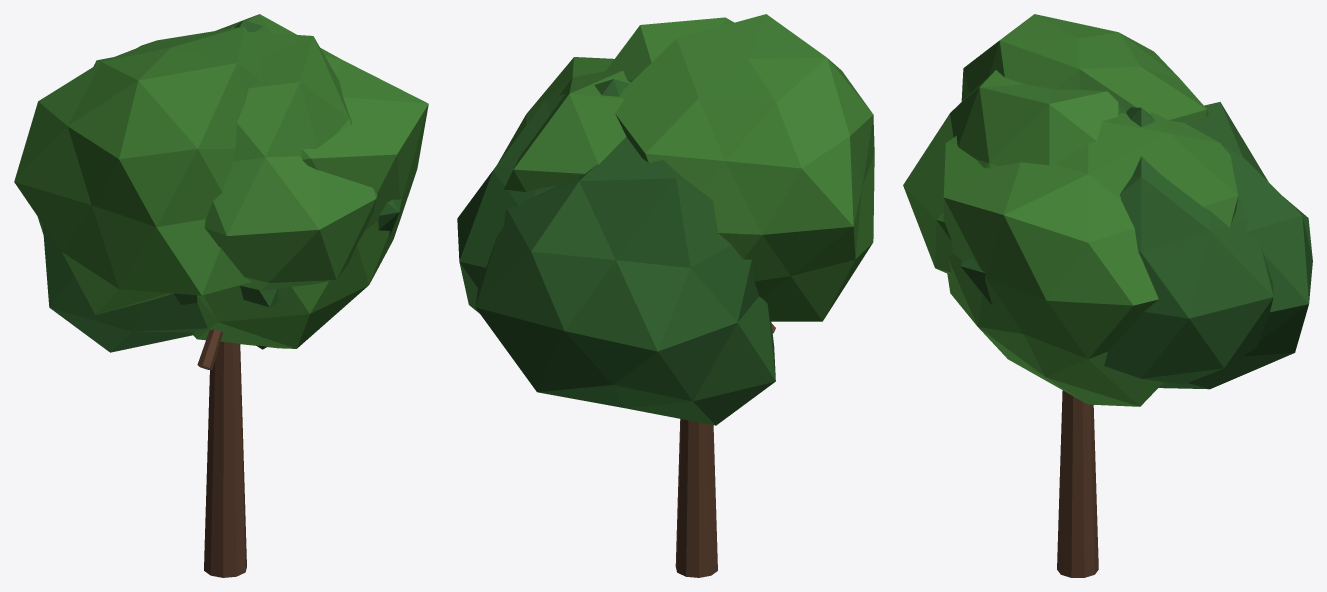
The model's file is tree.glb.
The picture shows the model from 3 angles, left to right: view 1: azimuth 30°, elevation 25°; view 2: azimuth 150°, elevation 25°; view 3: azimuth 270°, elevation 25°; orthographic projection. The views are drawn at different scales.
Parts seen in each view (by area): view 1: tree; view 2: tree; view 3: tree.
Part boxes in pixels (left/top/right/bottom): tree: left=14, top=14, right=428, bottom=577; tree: left=457, top=14, right=874, bottom=577; tree: left=903, top=14, right=1312, bottom=577.
Bounding box in the file's own units: 4.28 × 5.98 × 4.31.
